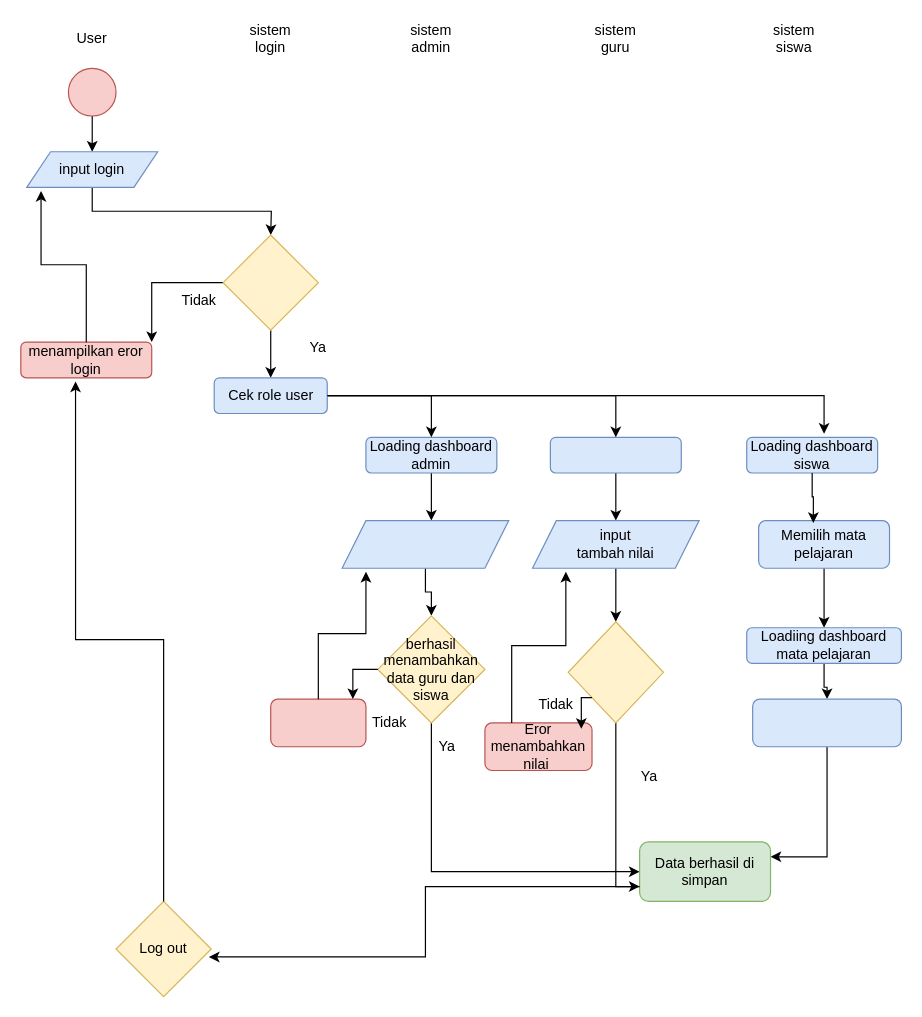
Image size: 922x1017. Some labels were removed from this diagram. The shapes that lost their labels are listed below. From the top down, each one's box as (x1, y1, x2, y2) in pixels, then its label:
(222, 234, 318, 330): login valid?
(549, 436, 681, 473): Loading dashboard guru
(341, 519, 509, 568): input tambah,edit dan hapus
(567, 621, 663, 723): Berhasil menambahkan nilai siswa
(270, 698, 366, 747): Eror menambahkan data
(751, 698, 901, 747): melihat nilai mata pelajaran yang telah di pilih
